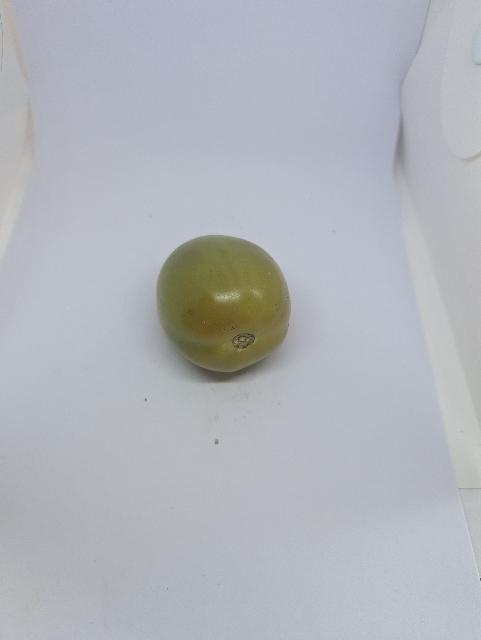green: (139, 216, 315, 389)
